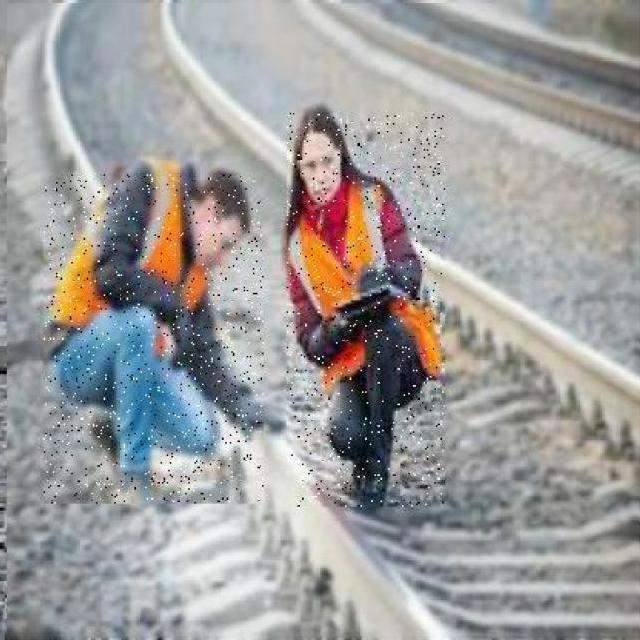rail: (9, 5, 640, 637), (314, 1, 640, 171)
